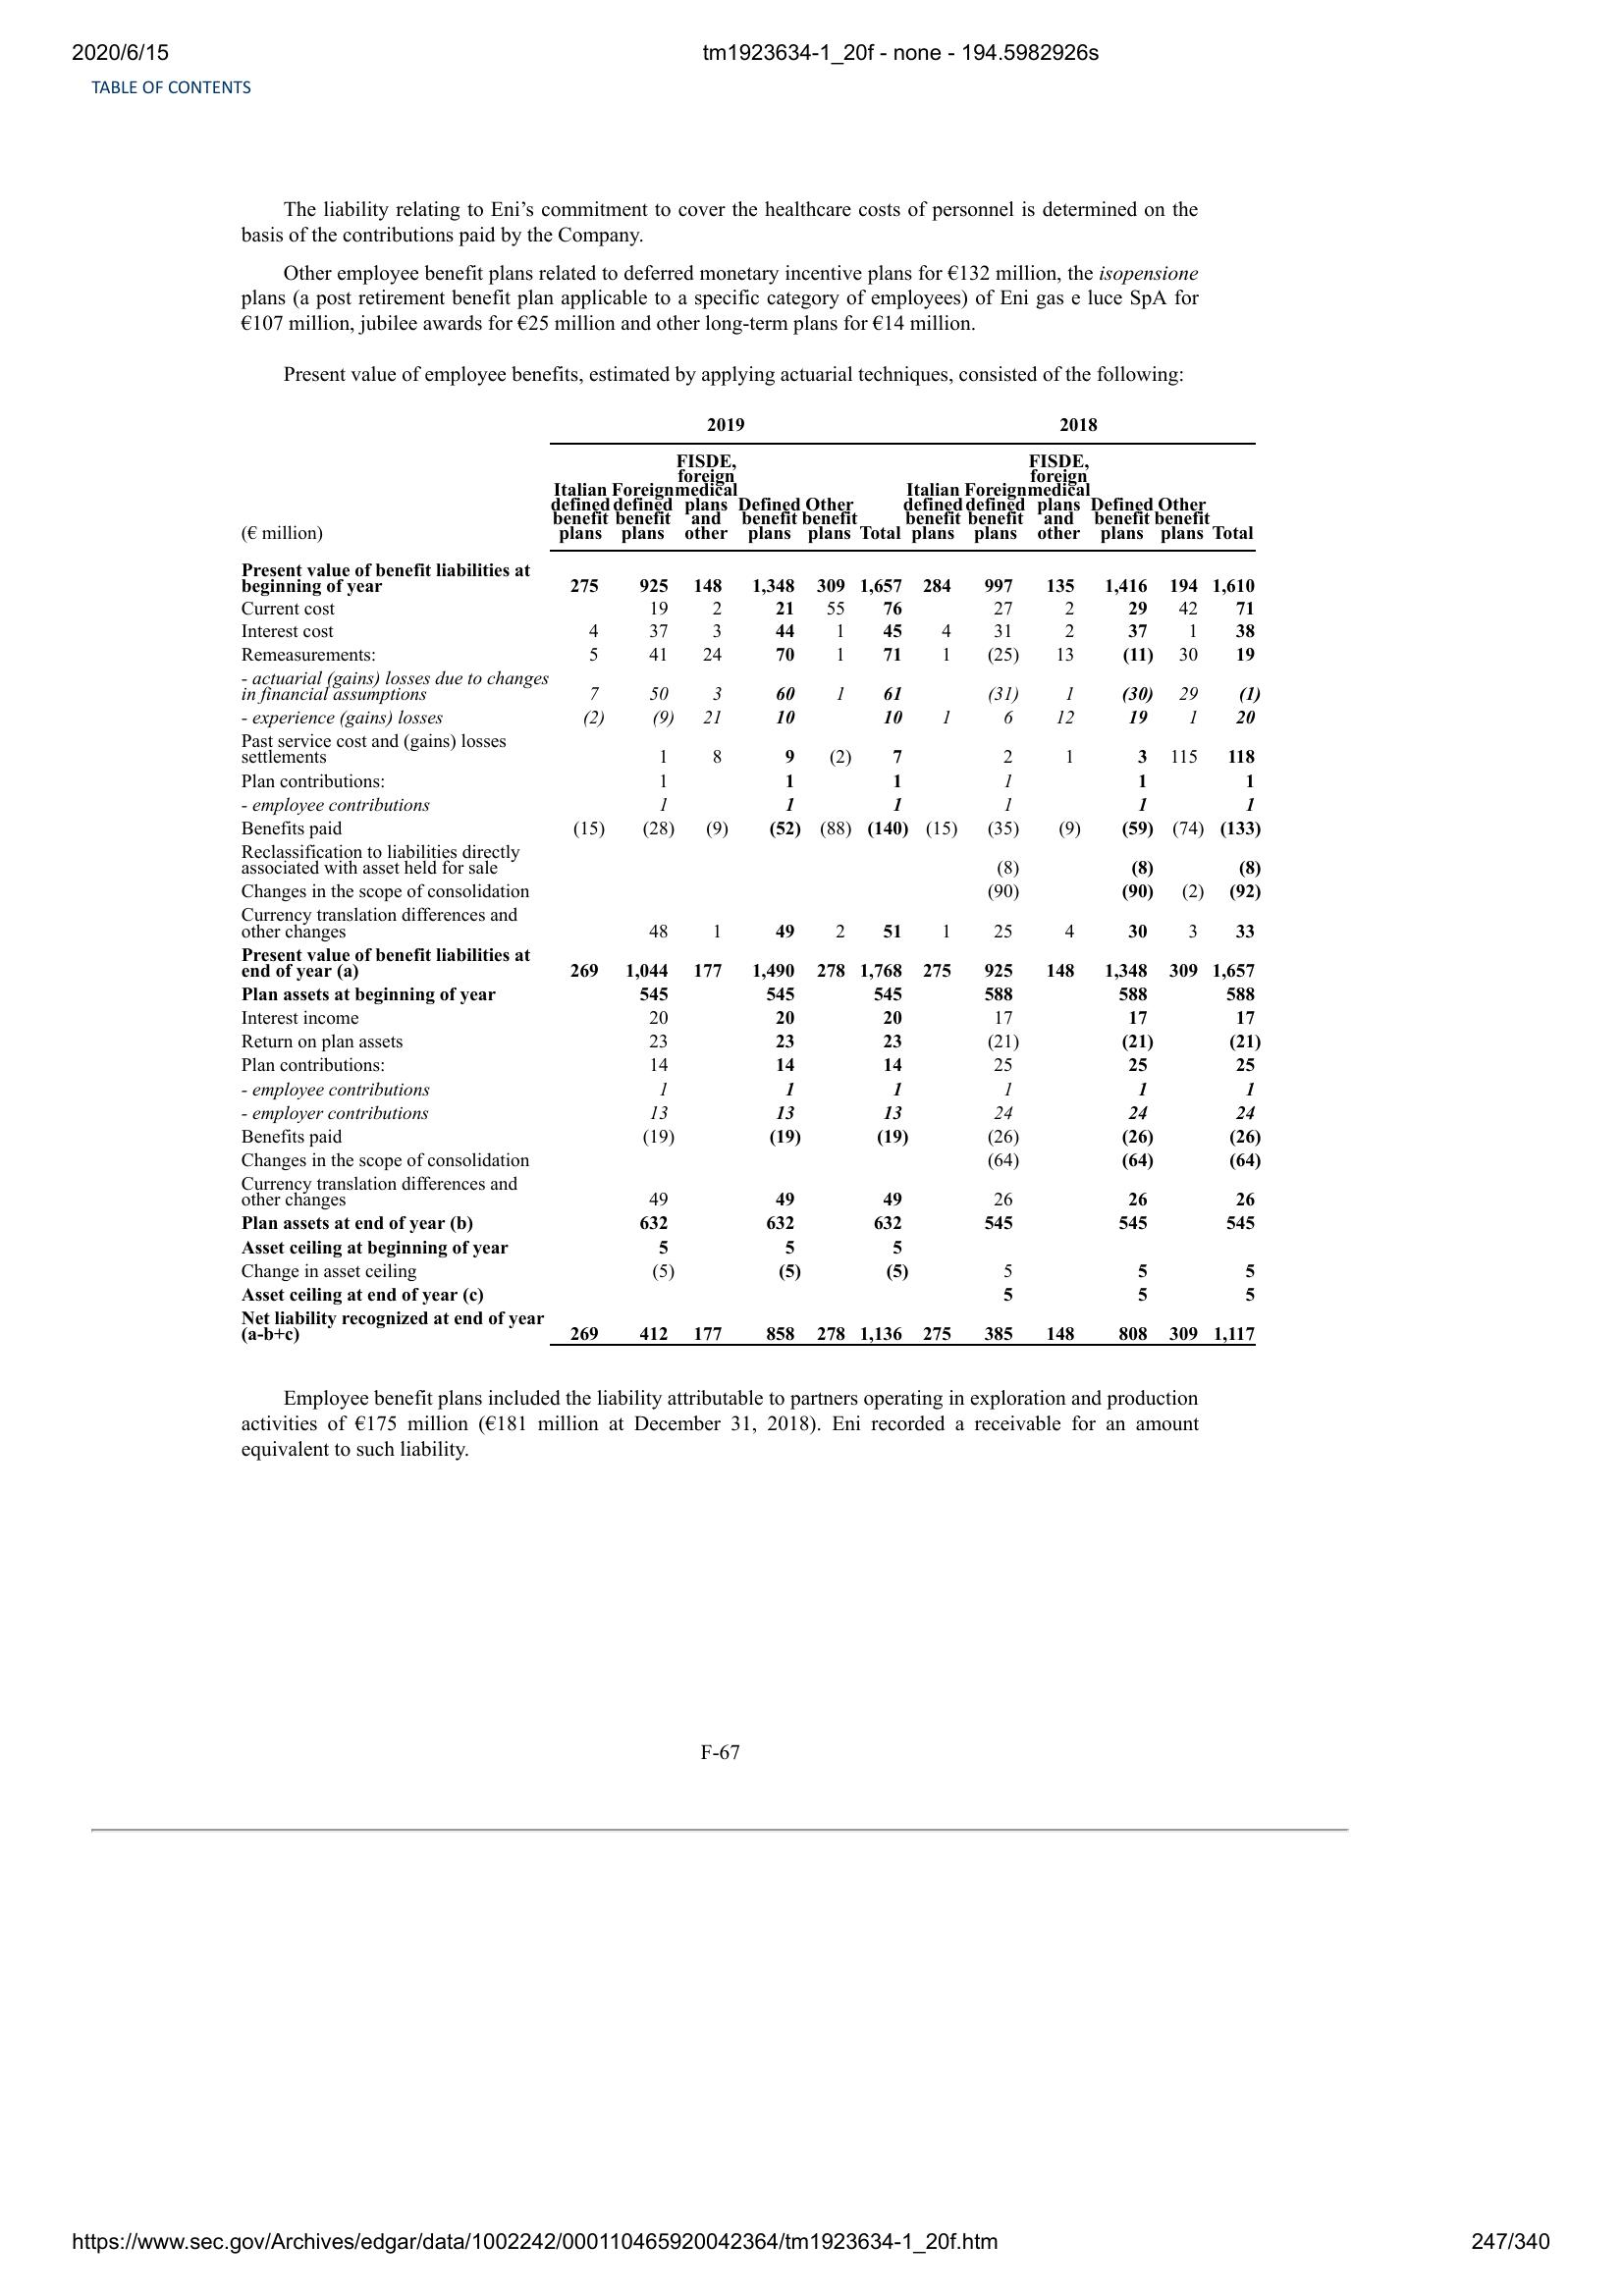table: (234, 411, 1268, 1352)
